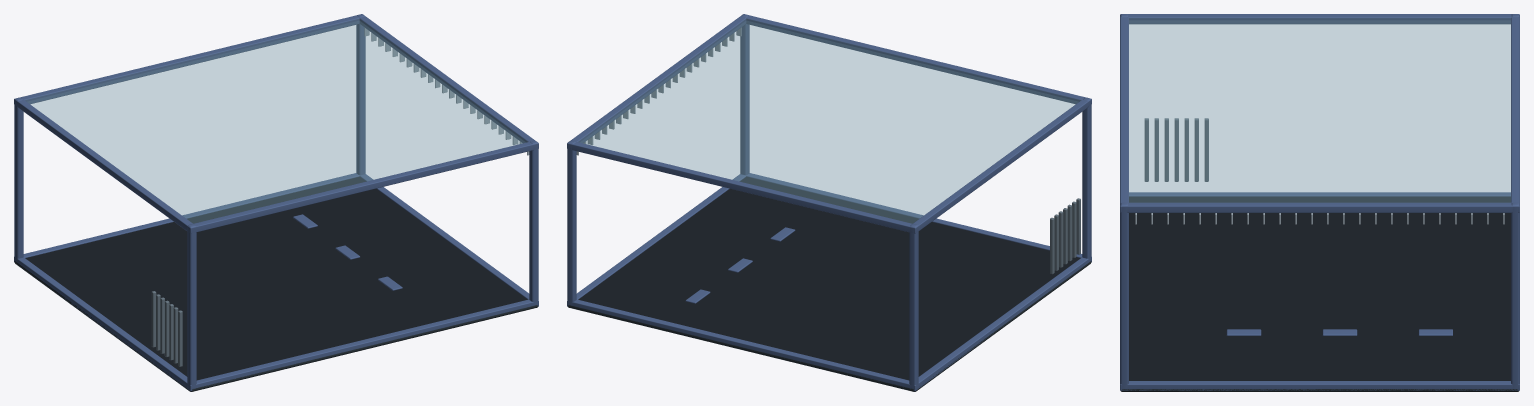
The model's file is wide.glb.
3 views of the same model, side by side, from view 1: azimuth 30°, elevation 25°; view 2: azimuth 150°, elevation 25°; view 3: azimuth 270°, elevation 25° (orthographic). The views are drawn at different scales.
Parts seen in each view (by area): view 1: wide housing, SidePanel; view 2: wide housing, SidePanel; view 3: wide housing, SidePanel.
Part boxes in pixels (<box>): wide housing: <box>14,14,538,391</box>; SidePanel: <box>25,19,527,223</box>; wide housing: <box>567,14,1091,391</box>; SidePanel: <box>578,19,1080,223</box>; wide housing: <box>1120,14,1519,391</box>; SidePanel: <box>1129,18,1510,202</box>.
Size of the model in its own units: 410 by 187 by 360.
